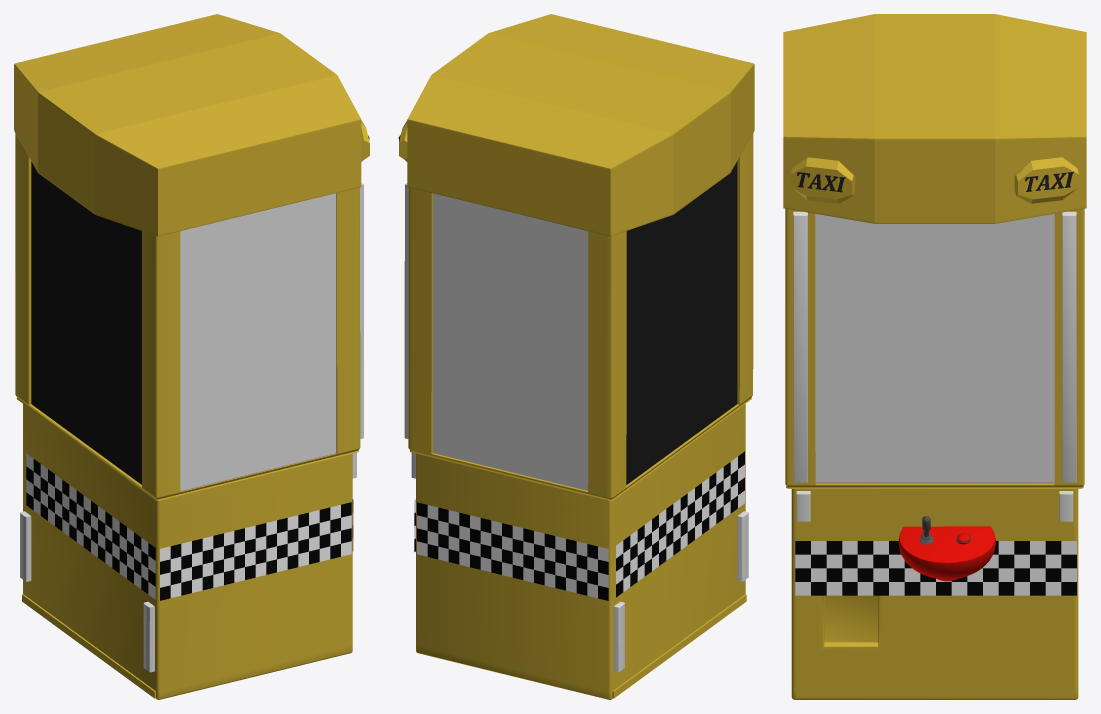
Rendered from taximachine003.fbx.
3 views of the same model, side by side, from view 1: azimuth 30°, elevation 25°; view 2: azimuth 150°, elevation 25°; view 3: azimuth 270°, elevation 25° (orthographic). The views are drawn at different scales.
Parts seen in each view (by area): view 1: Plane, Cube, WINDOWS, Cube.004, Cube.007, Plane.002, Plane.001, Cube.003, Cube.001; view 2: Plane, Cube, WINDOWS.001, Cube.004, Cube.007, Plane.003, Plane.001, Cube.003, Cube.001; view 3: WINDOWS.002, Plane, Cube, Plane.004, Cube.007, Cube.001, Cube.002, Sphere, Cube.008, Cube.005.
Part boxes in pixels (bbox=[...]): Plane: bbox=[14, 14, 361, 236]; Cube: bbox=[16, 395, 359, 699]; WINDOWS: bbox=[180, 193, 336, 491]; Cube.004: bbox=[31, 161, 141, 484]; Cube.007: bbox=[15, 133, 360, 497]; Plane.002: bbox=[160, 502, 351, 600]; Plane.001: bbox=[26, 453, 155, 599]; Cube.003: bbox=[20, 511, 154, 672]; Cube.001: bbox=[360, 183, 363, 438]; Plane: bbox=[407, 14, 754, 236]; Cube: bbox=[409, 395, 752, 699]; WINDOWS.001: bbox=[433, 193, 588, 490]; Cube.004: bbox=[626, 161, 737, 484]; Cube.007: bbox=[408, 133, 753, 497]; Plane.003: bbox=[417, 502, 608, 600]; Plane.001: bbox=[616, 451, 744, 597]; Cube.003: bbox=[613, 511, 748, 672]; Cube.001: bbox=[404, 183, 408, 438]; WINDOWS.002: bbox=[815, 213, 1054, 483]; Plane: bbox=[783, 14, 1086, 223]; Cube: bbox=[786, 210, 1083, 699]; Plane.004: bbox=[795, 541, 1076, 595]; Cube.007: bbox=[785, 208, 1084, 485]; Cube.001: bbox=[793, 211, 1076, 482]; Cube.002: bbox=[791, 157, 1078, 203]; Sphere: bbox=[898, 526, 995, 581]; Cube.008: bbox=[824, 595, 878, 642]; Cube.005: bbox=[796, 491, 1073, 521].
Bounding box in the file's own units: 132 × 265 × 127.
